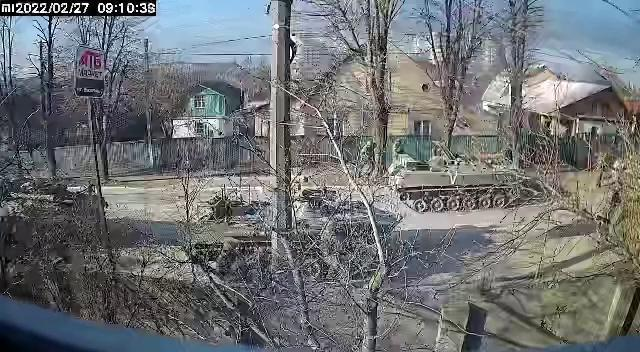tank: (186, 187, 401, 280), (0, 176, 120, 258), (390, 152, 524, 211)
